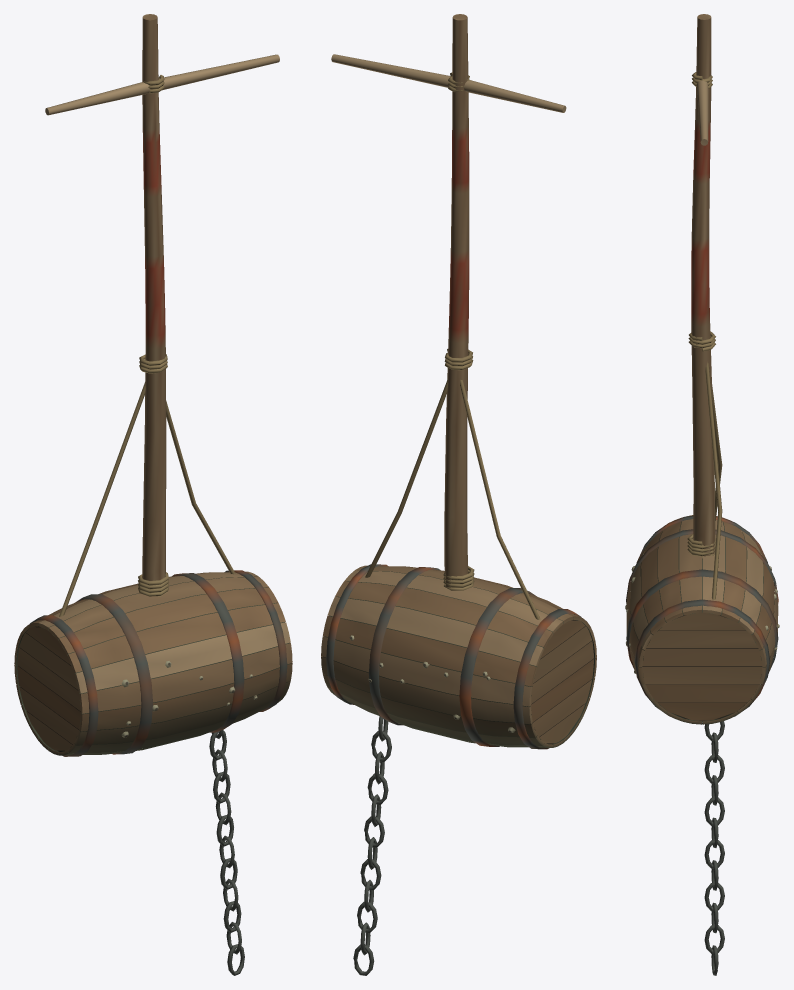
The model's file is spar-buoy.glb.
3 renders of one model, left to right at view 1: azimuth 30°, elevation 25°; view 2: azimuth 150°, elevation 25°; view 3: azimuth 270°, elevation 25°, orthographic. The views are drawn at different scales.
Parts seen in each view (by area): view 1: Coopered spar buoy; view 2: Coopered spar buoy; view 3: Coopered spar buoy.
Part boxes in pixels (x1=…): Coopered spar buoy: x1=14, y1=14, x2=292, y2=975; Coopered spar buoy: x1=321, y1=14, x2=596, y2=975; Coopered spar buoy: x1=625, y1=14, x2=779, y2=975.
Size of the model in its own units: 1.81 by 7.34 by 1.12.
